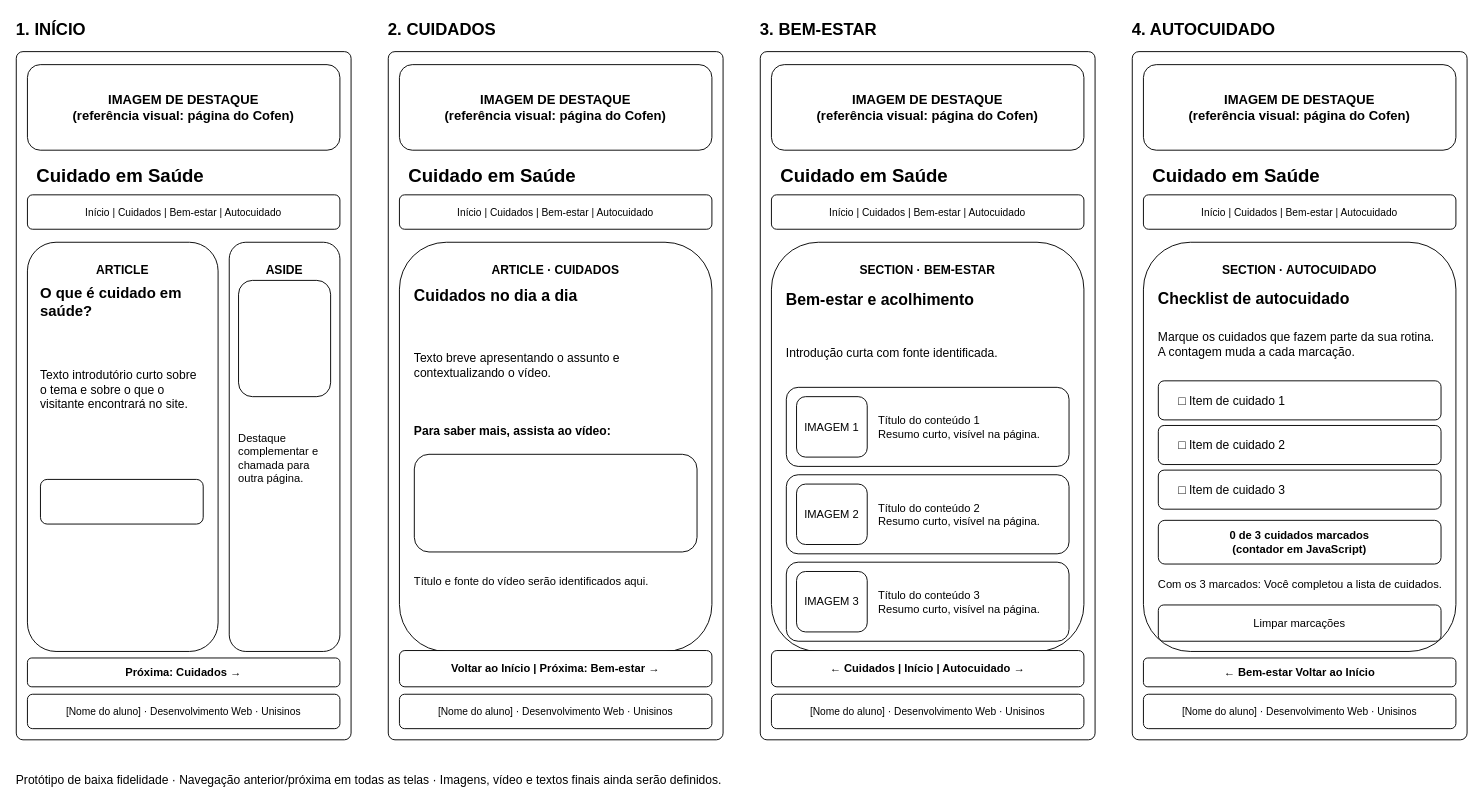
This 1483x808 diagram has some shape labels left out. The shapes that lost their labels are listed below. From the top down, each one's centre as x and y in pixels, then its label:
At point 284,338: "IMAGEM".
At point 121,501: "Conheça os cuidados →".
At point 555,502: "VÍDEO DO YOUTUBE (incorporado à página)".
